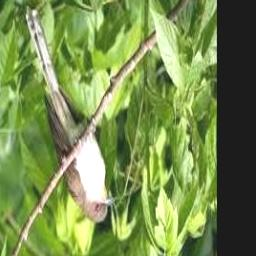Cuckoo: (24, 7, 113, 223)
